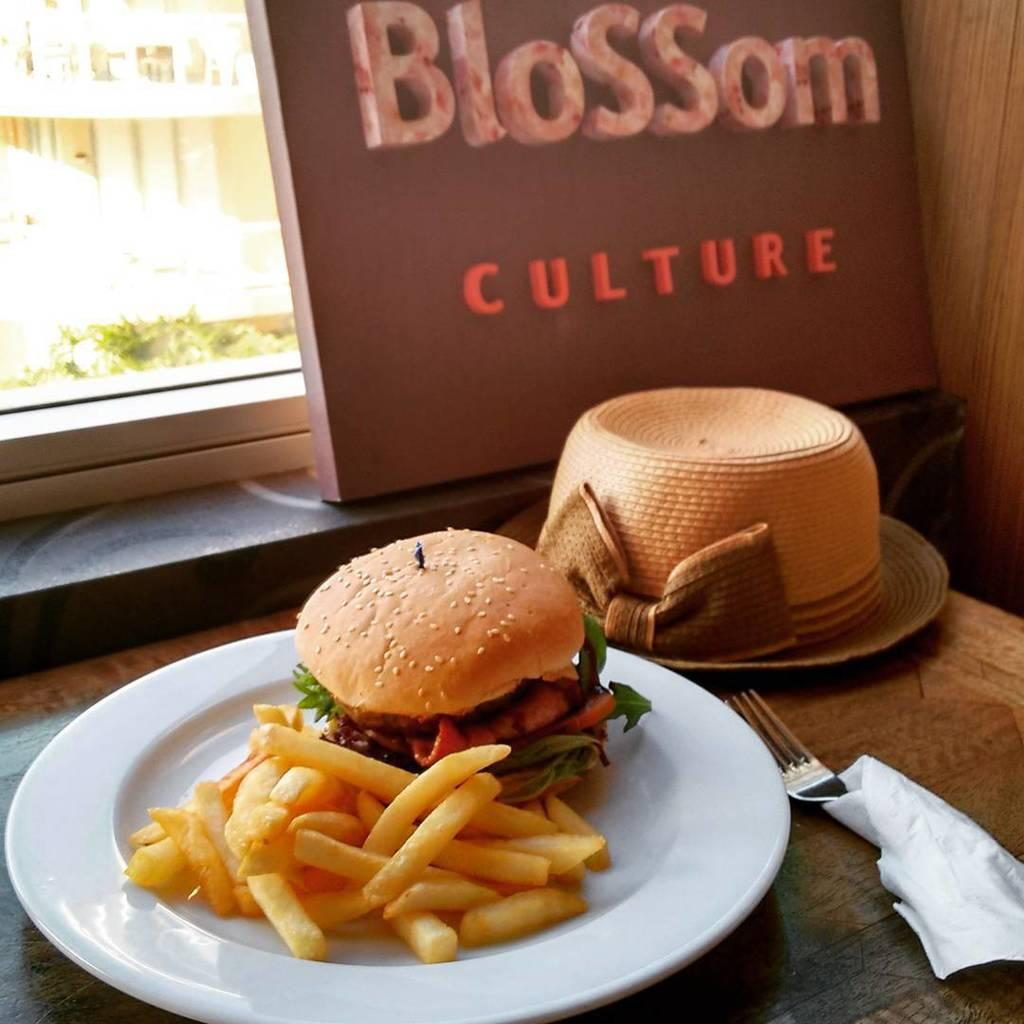Hat: (536, 383, 948, 679)
